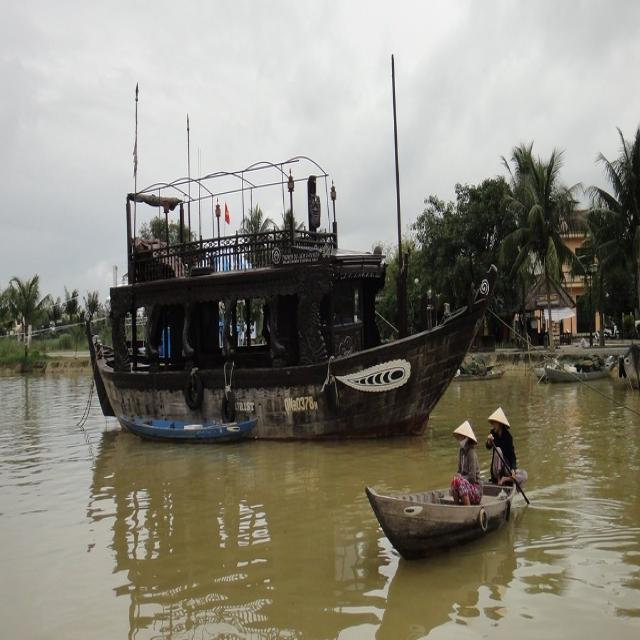boat: (71, 256, 465, 446), (352, 466, 558, 556), (122, 414, 272, 442), (537, 346, 625, 390)
